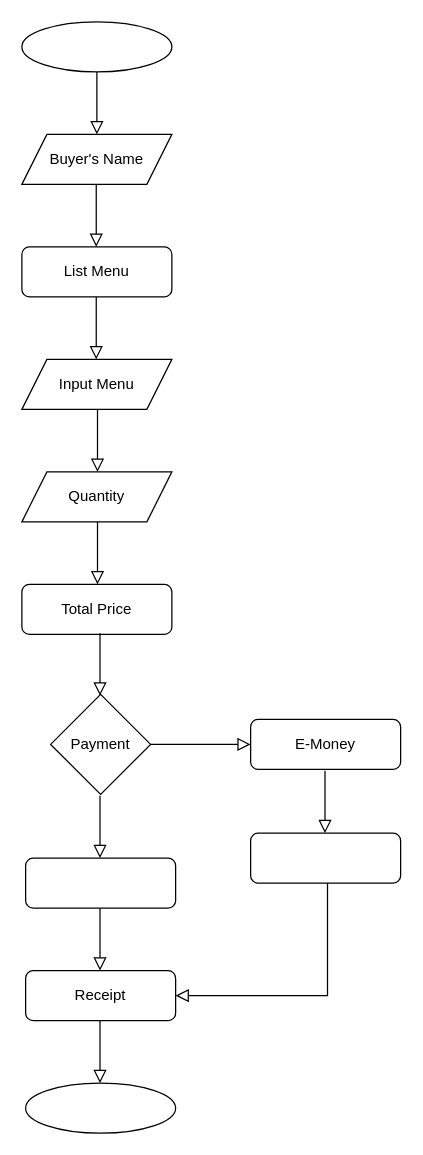
Image size: 423x1155. Some labels were removed from this diagram. Here are the shapes that lost their labels. From the top down, the centre of each, then its label:
the point at 96,46: Start
the point at 325,857: Payment succes
the point at 100,882: Konvensional Money
the point at 100,1107: End
